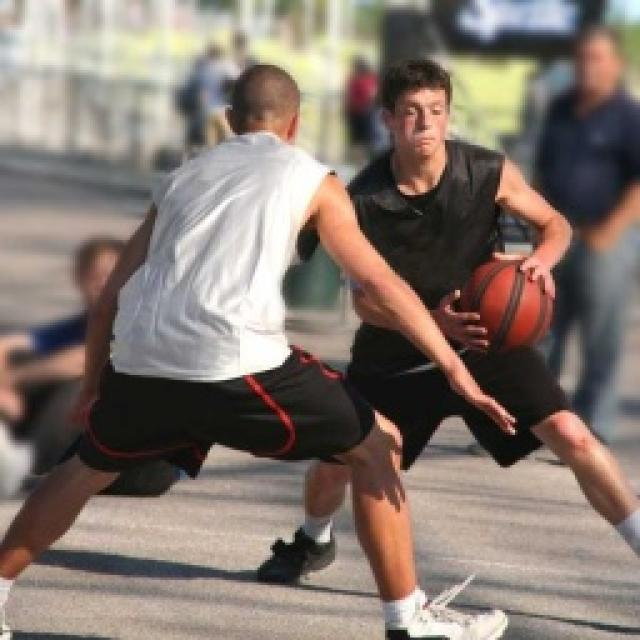rim: (449, 248, 559, 348)
